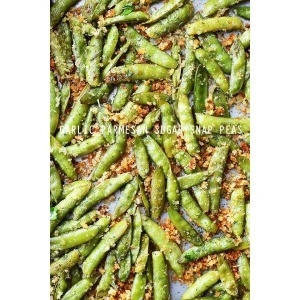green pea_brain food: (76, 89, 229, 216)
